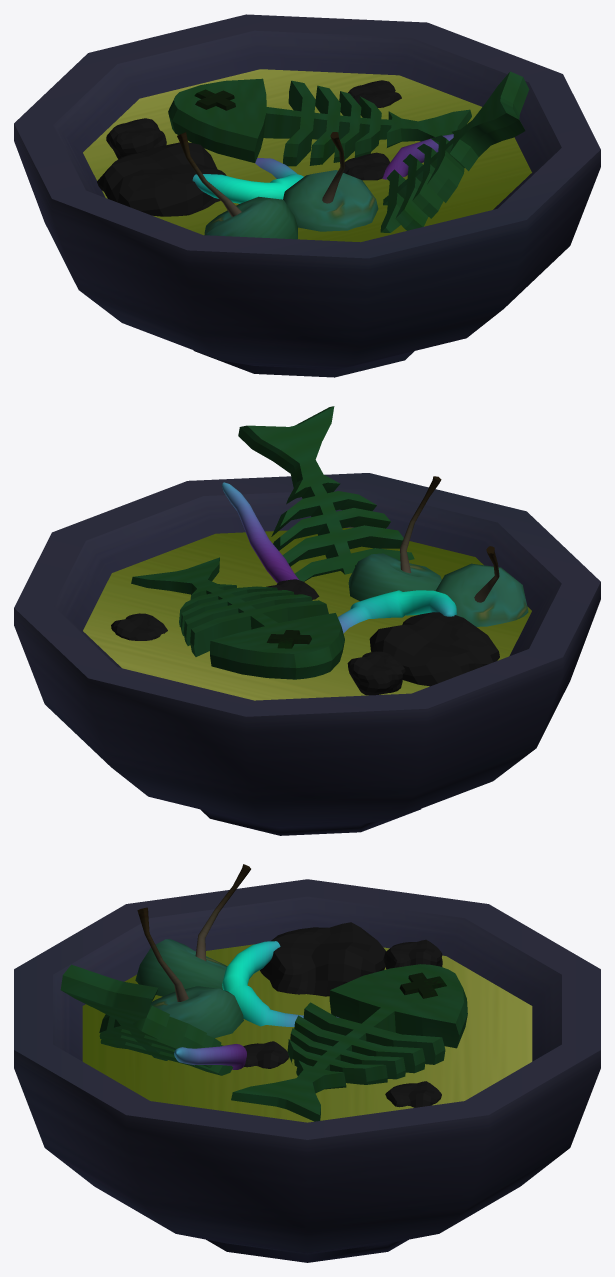
Rendered from GrossFood.fbx.
3 renders of one model, top to bottom at view 1: azimuth 30°, elevation 25°; view 2: azimuth 150°, elevation 25°; view 3: azimuth 270°, elevation 25°, orthographic. The views are drawn at different scales.
Visible parts, largest first — view 1: pCube37; view 2: pCube37; view 3: pCube37.
Boxes of the visible parts, <box> form: pCube37: <box>14,14,600,377</box>; pCube37: <box>14,406,600,835</box>; pCube37: <box>14,864,600,1262</box>.
Bounding box in the file's own units: 37.33 × 18.97 × 35.5.
